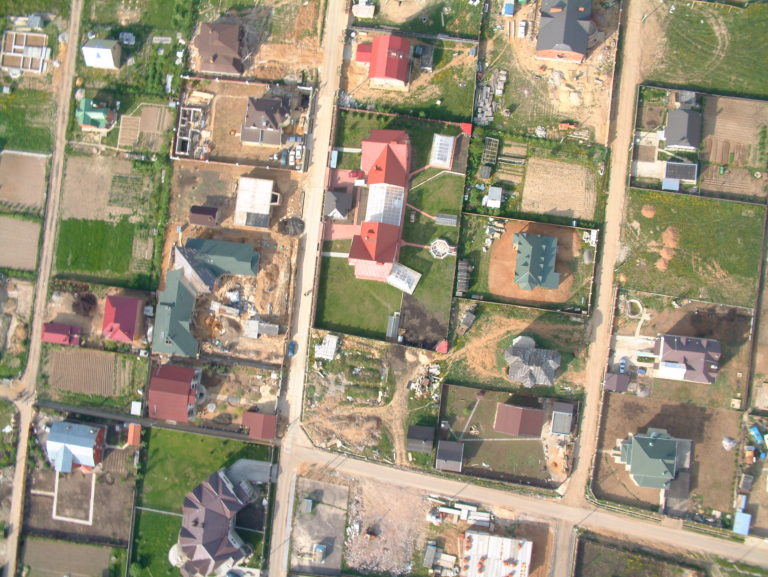build: (149, 234, 255, 359), (347, 125, 422, 279), (176, 461, 245, 577), (614, 432, 696, 497), (529, 1, 600, 64), (653, 333, 723, 390), (145, 365, 205, 424), (366, 31, 419, 95), (500, 336, 566, 387), (43, 418, 103, 474), (196, 20, 248, 76), (490, 397, 548, 444), (240, 94, 288, 149), (514, 233, 559, 291), (661, 108, 709, 152), (100, 291, 138, 341), (81, 32, 123, 73), (75, 97, 112, 130), (435, 440, 468, 474), (405, 424, 435, 457), (188, 204, 223, 228), (41, 320, 72, 347)
